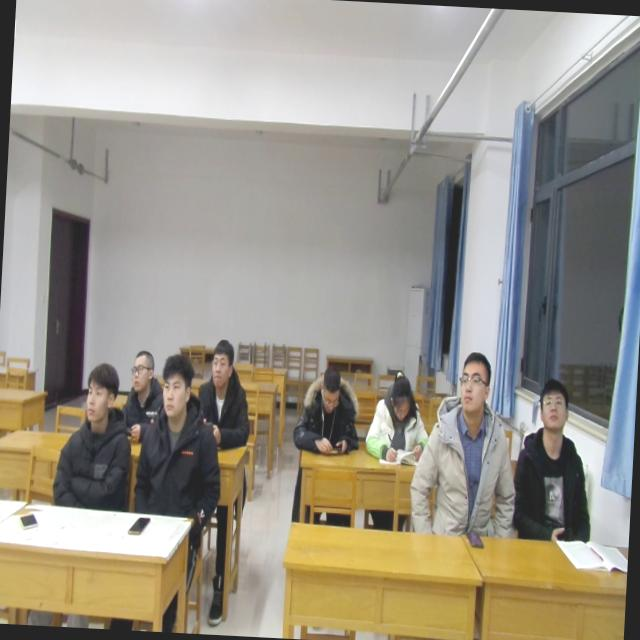down: (314, 359, 344, 417), (386, 365, 416, 423)
lookup: (78, 358, 123, 427), (454, 343, 496, 416), (158, 346, 196, 424), (533, 378, 571, 440), (208, 337, 236, 394), (127, 340, 154, 393)
sit: (409, 346, 523, 538), (510, 375, 600, 540), (134, 355, 226, 516), (52, 361, 138, 512), (192, 337, 257, 452), (364, 364, 435, 464), (294, 360, 366, 450), (120, 346, 163, 424)
